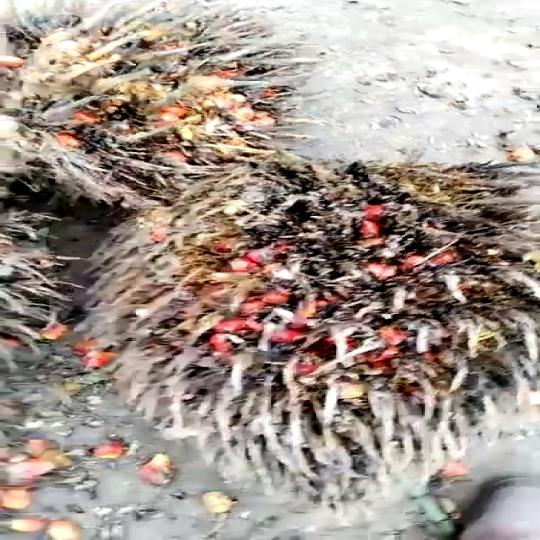terlalu masak: (125, 153, 540, 526), (0, 13, 365, 203)
